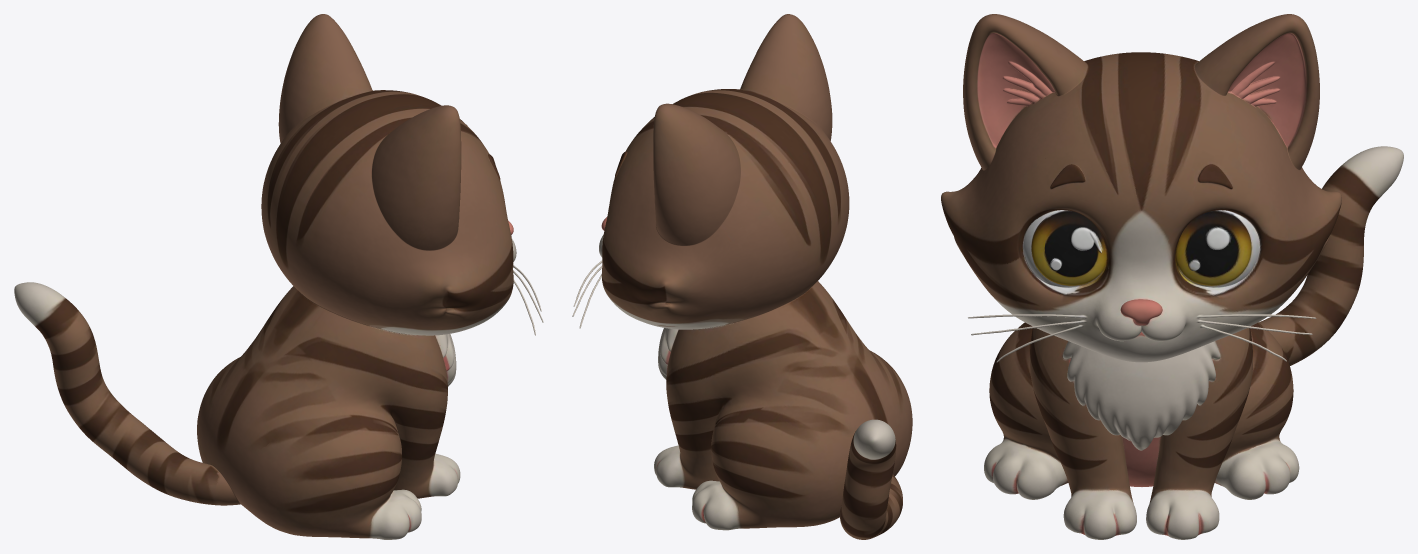
The model's file is tabby_kitten.glb.
3 views of the same model, side by side, from view 1: azimuth 30°, elevation 25°; view 2: azimuth 150°, elevation 25°; view 3: azimuth 270°, elevation 25° (orthographic). The views are drawn at different scales.
Parts seen in each view (by area): view 1: tripo_node_5765228b-7b3d-43df-9bb6-c9dd9709309d; view 2: tripo_node_5765228b-7b3d-43df-9bb6-c9dd9709309d; view 3: tripo_node_5765228b-7b3d-43df-9bb6-c9dd9709309d.
Boxes of the visible parts, <box> form: tripo_node_5765228b-7b3d-43df-9bb6-c9dd9709309d: <box>14,14,543,539</box>; tripo_node_5765228b-7b3d-43df-9bb6-c9dd9709309d: <box>572,14,912,539</box>; tripo_node_5765228b-7b3d-43df-9bb6-c9dd9709309d: <box>941,14,1403,539</box>.
Size of the model in its own units: 0.9675 by 1 by 0.8429.
Materials: 1 (1 with a texture image).
